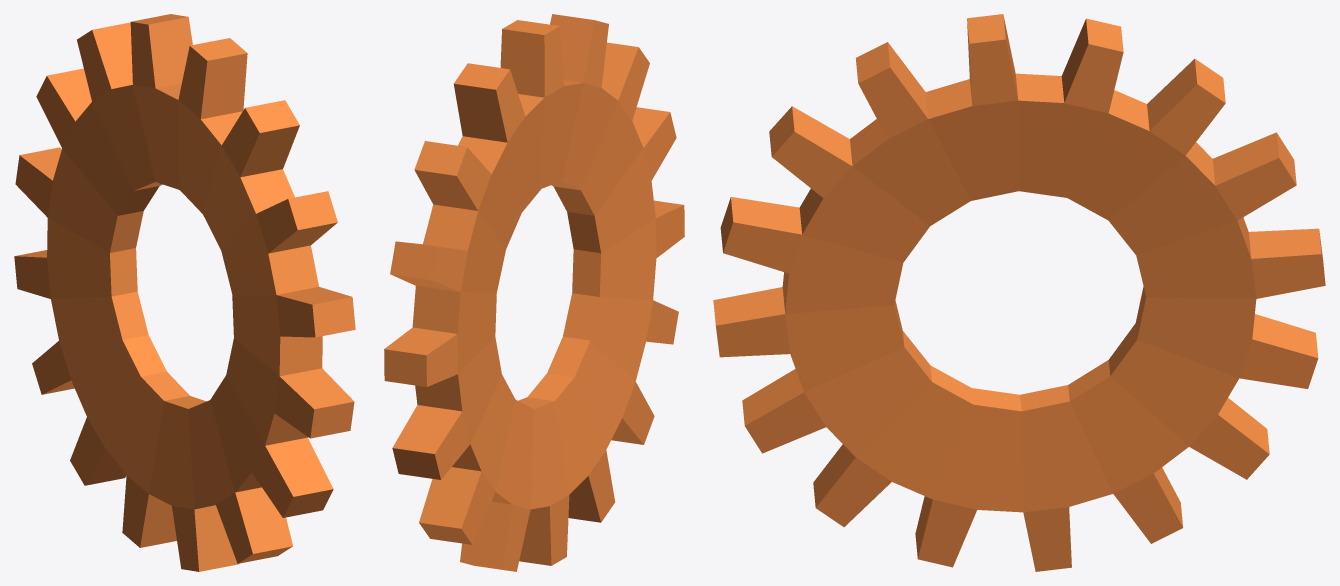
File: gear.fbx
The picture shows the model from 3 angles, left to right: view 1: azimuth 30°, elevation 25°; view 2: azimuth 150°, elevation 25°; view 3: azimuth 270°, elevation 25°; orthographic projection. The views are drawn at different scales.
Parts seen in each view (by area): view 1: SHIP.010; view 2: SHIP.010; view 3: SHIP.010.
Part boxes in pixels (bbox=[...]): SHIP.010: bbox=[14, 14, 355, 571]; SHIP.010: bbox=[384, 14, 684, 571]; SHIP.010: bbox=[713, 14, 1325, 571].
Bounding box in the file's own units: 74.46 × 435 × 435.
